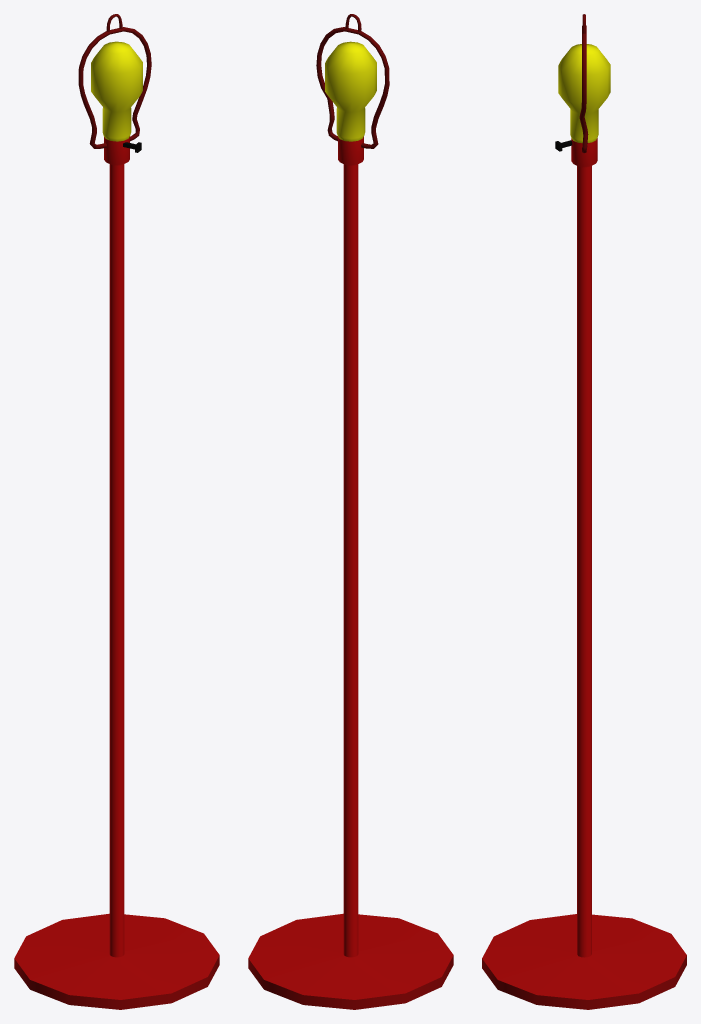
The model's file is BulbLamp001.glb.
3 renders of one model, left to right at view 1: azimuth 30°, elevation 25°; view 2: azimuth 150°, elevation 25°; view 3: azimuth 270°, elevation 25°, orthographic.
Visible parts, largest first — view 1: BulbLamp001; view 2: BulbLamp001; view 3: BulbLamp001.
Part boxes in pixels (x1,y1,x2,y2): BulbLamp001: (14,14,219,1009); BulbLamp001: (248,14,453,1009); BulbLamp001: (482,14,686,1009).
Size of the model in its own units: 1.62 by 8.3 by 1.62.
